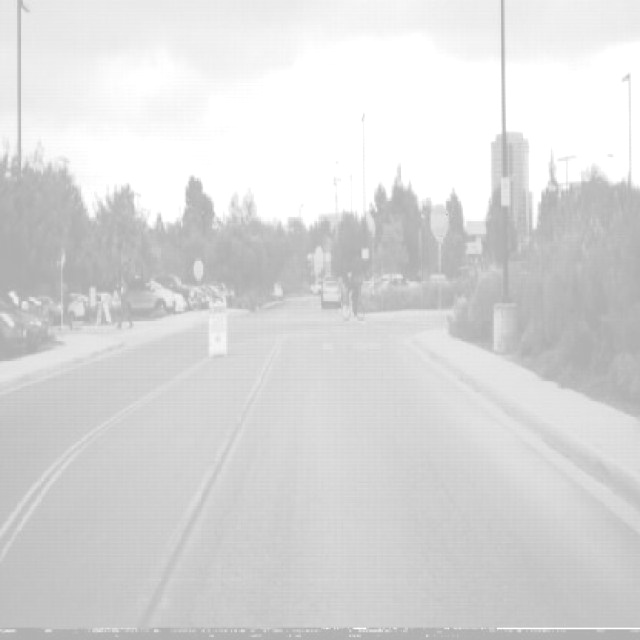stop: (429, 202, 449, 240)
